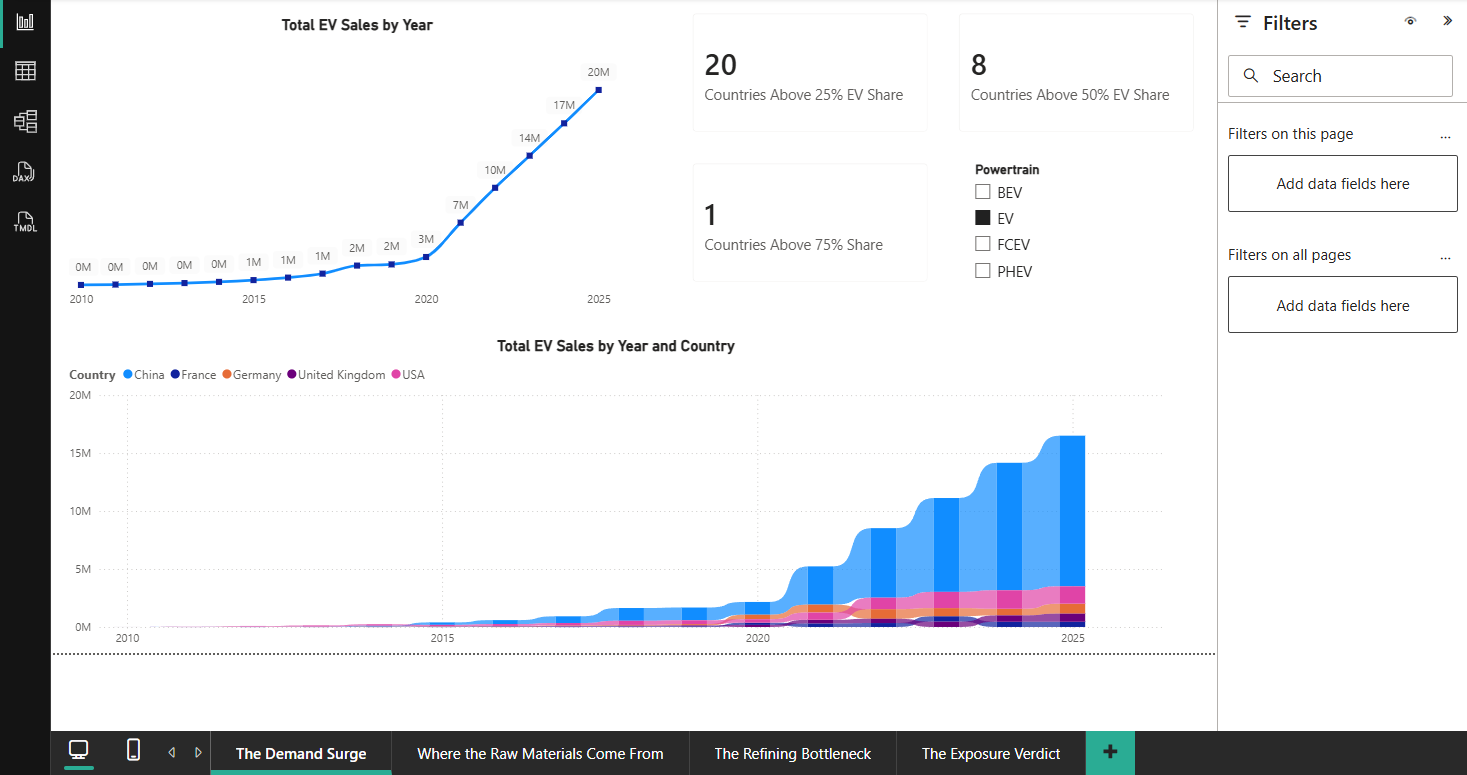

Layout of this report page (visuals, bound fields, positions):
{"tool":"powerbi","page":{"name":"The Demand Surge","canvas":[1280,720],"ordinal":0},"visuals":[{"type":"lineChart","title":"Total EV Sales by Year","fields":{"Y":["EV_Historical.Total EV Sales"],"Category":["Years.year"]},"box":[15.1,19.2,642.2,329.3],"z":0},{"type":"cardVisual","fields":{"Data":["EV_Historical.Countries Above 25% Share"]},"box":[687.5,0,292.3,164.7],"z":1000},{"type":"cardVisual","fields":{"Data":["EV_Historical.Countries Above 50% Share"]},"box":[979.8,0,292.3,164.7],"z":2000},{"type":"slicer","fields":{"Values":["EV_Historical.powertrain"]},"box":[1001.7,174.3,249.7,164.7],"z":3000},{"type":"ribbonChart","title":"Total EV Sales by Year and Country","fields":{"Category":["Years.year"],"Series":["EV_Historical.Country"],"Y":["EV_Historical.Total EV Sales"]},"box":[15.1,371.9,1210.3,348.5],"z":4000},{"type":"cardVisual","fields":{"Data":["EV_Historical.Countries Above 75% Share"]},"box":[687.5,164.7,292.3,164.7],"z":5000}]}

Visuals, with their boxes on the page's 1280x720 design canvas (x1, y1, x2, y2). These are canvas units, not pixel positions in the 1467x775 screenshot, which may show the page scaled, cropped or inside an application window:
"Total EV Sales by Year" lineChart: x1=15 y1=19 x2=657 y2=348
cardVisual - EV_Historical.Countries Above 25% Share: x1=688 y1=0 x2=980 y2=165
cardVisual - EV_Historical.Countries Above 50% Share: x1=980 y1=0 x2=1272 y2=165
slicer - EV_Historical.powertrain: x1=1002 y1=174 x2=1251 y2=339
"Total EV Sales by Year and Country" ribbonChart: x1=15 y1=372 x2=1225 y2=720
cardVisual - EV_Historical.Countries Above 75% Share: x1=688 y1=165 x2=980 y2=329
